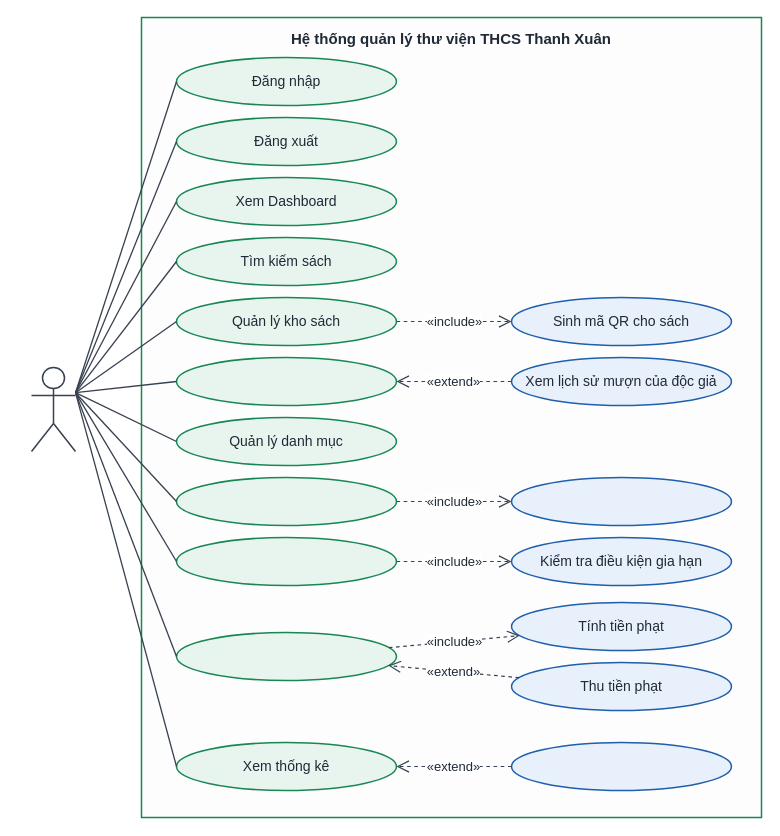
Some shapes in this 780 by 836 pixel diagram are drawn without their labels. The shapes that lost their labels are listed below. From the top down, each one's box as (x1, y1, x2, y2) in pixels, then its label:
(175, 356, 397, 406): Quản lý độc giả
(30, 366, 76, 452): Nhân viên
(175, 476, 397, 526): Lập phiếu mượn
(510, 476, 732, 526): Kiểm tra điều kiện mượn
(175, 536, 397, 586): Gia hạn phiếu mượn
(175, 631, 397, 681): Lập phiếu trả sách
(510, 741, 732, 791): Xuất báo cáo Excel
